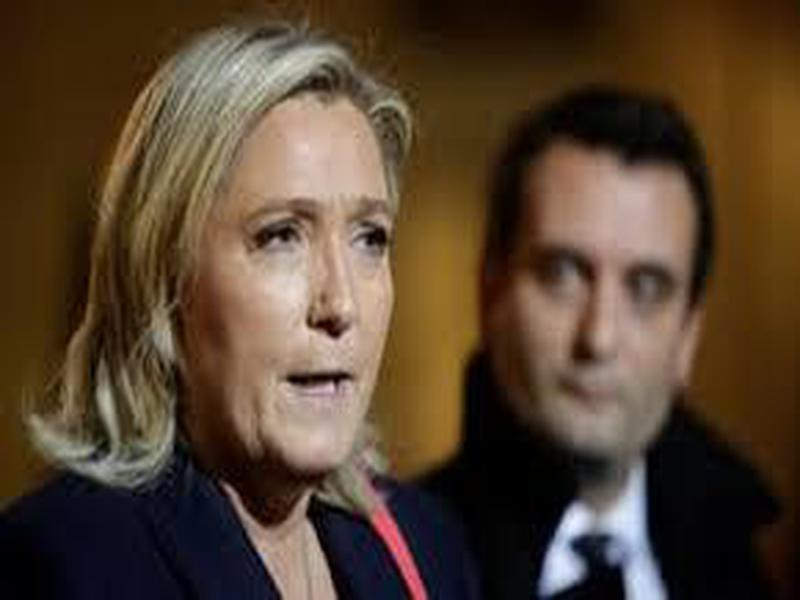without_mask: (182, 91, 385, 478), (499, 144, 695, 459)
